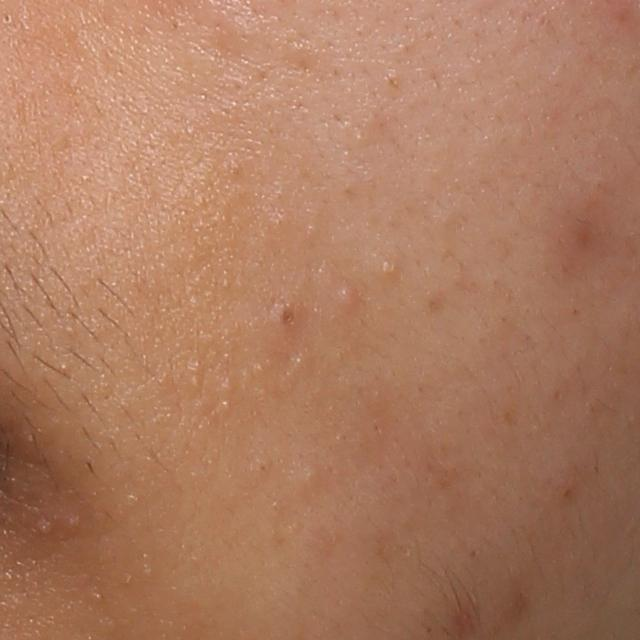comedo: (273, 302, 301, 330), (376, 254, 403, 280), (334, 281, 358, 308), (301, 464, 320, 487)
